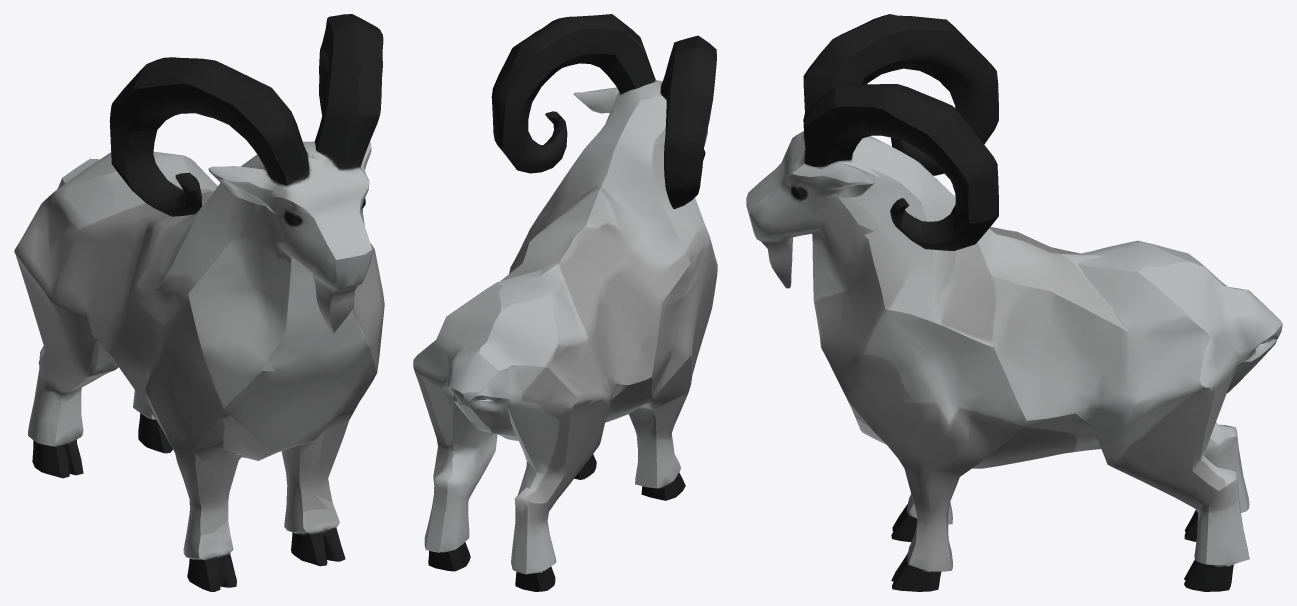
Rendered from CHAR_02.glb.
The picture shows the model from 3 angles, left to right: view 1: azimuth 30°, elevation 25°; view 2: azimuth 150°, elevation 25°; view 3: azimuth 270°, elevation 25°; orthographic projection. The views are drawn at different scales.
Parts seen in each view (by area): view 1: world; view 2: world; view 3: world.
Boxes of the visible parts, x1,y1,x2,y2 form: world: [14, 14, 384, 591]; world: [413, 14, 717, 591]; world: [746, 14, 1282, 591].
Bounding box in the file's own units: 0.5062 × 1 × 0.9584.
Materials: 1 (1 with a texture image).
